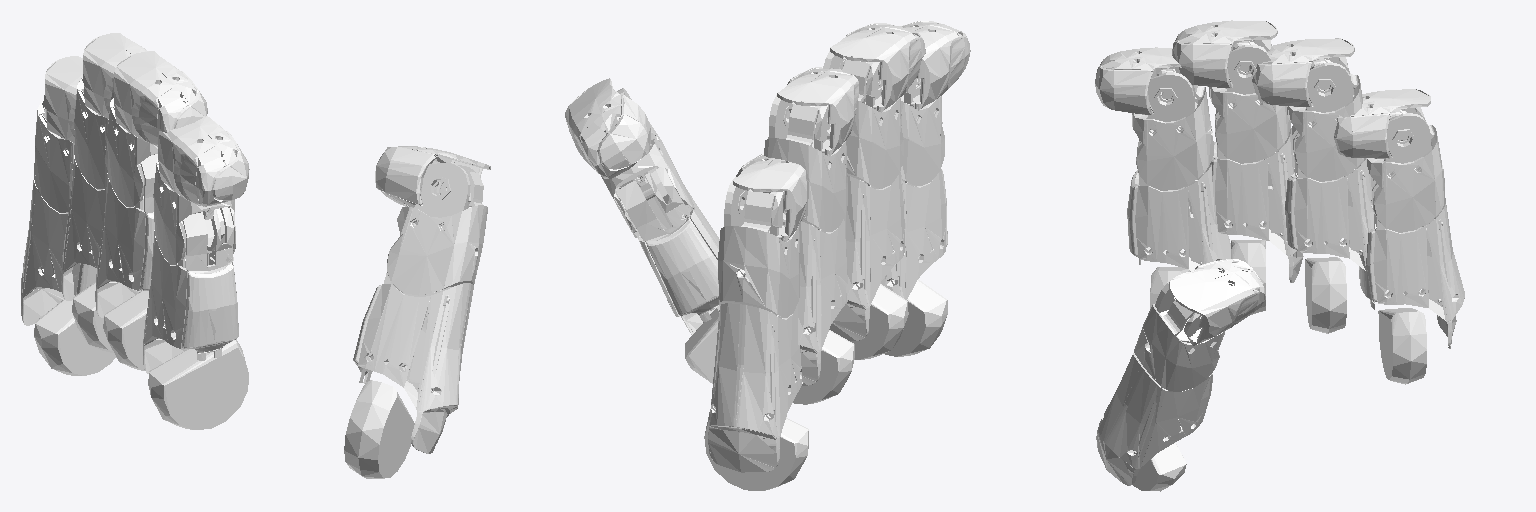
URDF robot description (hithand):
<?xml version="1.0" encoding="utf-8"?>
<robot name="hithand">
  <material name="white">
    <color rgba="1.0 1.0 1.0 1.0"/>
  </material>

  <link name="world"/>
  <joint name="fixed" type="fixed">
    <parent link="world"/>
    <child link="base_link_hithand"/>
    <origin rpy="0 0 0" xyz="0 0 0"/>
  </joint>
  <link name="base_link_hithand">
    <inertial>
      <origin rpy="0 0 0" xyz="0.0 0.0 0.0"/>
      <mass value="1.1485"/>
      <inertia ixx="2.2458e-3" ixy="-2.7421e-4" ixz="1.6e-5" iyy="2.2203e-3" iyz="-6.37e-5" izz="1.9003e-3"/>
    </inertial>
    <visual>
      <origin rpy="-1.57 0 0" xyz="0 0 0"/>
      <geometry>
        <mesh filename="./meshes/visual/palm/hit-hand-2-palm-left.obj"/>
      </geometry>
      <material name="white"/>
    </visual>
    <collision>
      <origin rpy="-1.57 0 0" xyz="0 0 0"/>
      <geometry>
        <mesh filename="./meshes/collision/palm/hit-hand-2-palm-left.stl"/>
      </geometry>
      <disable>true</disable>
    </collision>
  </link>
  <joint name="hithand_palm_joint" type="fixed">
    <parent link="base_link_hithand"/>
    <child link="palm_link_hithand"/>
    <origin rpy="-0.15 -1.3 0" xyz="0.02 0 0.06"/>
  </joint>
  <link name="palm_link_hithand"/>
  <joint name="Right_Thumb_0" type="revolute">
    <origin rpy="0.225810 -1.083656 0.411355" xyz="0.06217593 -0.044372912 0.078734808"/>
    <parent link="base_link_hithand"/>
    <child link="Right_Thumb_Basecover"/>
    <axis xyz="0 0 1"/>
    <limit effort="15" lower="-0.261799" upper="0.261799" velocity="3.14"/>
    <dynamics damping="0.5" friction="0"/>
  </joint>
  <link name="Right_Thumb_Basecover">
    <inertial>
      <origin rpy="0 0 0" xyz="0.02749 0 0"/>
      <mass value="0.0176"/>
      <inertia ixx="1.3450e-6" ixy="0.0" ixz="-1.8183e-7" iyy="1.9874e-6" iyz="0.0" izz="1.0419e-6"/>
    </inertial>
    <visual>
      <origin rpy="0 0 0" xyz="0 0 0"/>
      <geometry>
        <mesh filename="./meshes/visual/finger/hit-hand-2-finger-basecover.dae"/>
      </geometry>
      <material name="white"/>
    </visual>
    <collision>
      <origin rpy="0 0 0" xyz="0 0 0"/>
      <geometry name="hithand_Thumb_base_cover">
        <cylinder length="0.001" radius="0.001"/>
      </geometry>
    </collision>
  </link>
  <joint name="Right_Thumb_1" type="revolute">
    <origin rpy="1.5708 0 0" xyz="0 0 0 "/>
    <parent link="Right_Thumb_Basecover"/>
    <child link="Right_Thumb_Phaprox"/>
    <axis xyz="0 0 1"/>
    <limit effort="1.15" lower="0.0" upper="1.48353" velocity="3.14"/>
    <!-- Effort limit based on max fingertip force of 10N. Finger tip is approx 11.5cm away from this joint.-->
    <dynamics damping="0.5" friction="0"/>
  </joint>
  <link name="Right_Thumb_Phaprox">
    <inertial>
      <origin rpy="0 0 0" xyz="0.03076 0.00297 0"/>
      <mass value="0.0232"/>
      <inertia ixx="2.5326e-6" ixy="-9.2551e-7" ixz="-4.0954e-8" iyy="6.9625e-6" iyz="-9.38e-9" izz="7.9108e-6"/>
    </inertial>
    <visual>
      <origin rpy="0 0 0" xyz="0 0 0"/>
      <geometry>
        <mesh filename="./meshes/visual/finger/hit-hand-2-finger-phaprox-rot.dae"/>
      </geometry>
      <material name="white"/>
    </visual>
    <collision>
      <origin rpy="0 0 0" xyz="0 0 0"/>
      <geometry>
        <mesh filename="./meshes/collision/finger/hit-hand-2-finger-phaprox.stl"/>
      </geometry>
    </collision>
  </link>
  <joint name="Right_Thumb_2" type="revolute">
    <origin rpy="0 0 0" xyz="0.055 0 0"/>
    <parent link="Right_Thumb_Phaprox"/>
    <child link="Right_Thumb_Phamed"/>
    <axis xyz="0 0 1"/>
    <limit effort="0.6" lower="0.0" upper="1.13446" velocity="3.14"/>
    <dynamics damping="0.5" friction="0"/>
  </joint>
  <link name="Right_Thumb_Phamed">
    <inertial>
      <origin rpy="0 0 0" xyz="0.0097 -0.00036 0"/>
      <mass value="0.0158"/>
      <inertia ixx="1.1852e-6" ixy="-2.8845e-8" ixz="-6.1323e-9" iyy="2.4460e-6" iyz="2.4541e-9" izz="2.6537e-6"/>
    </inertial>
    <visual>
      <origin rpy="0 0 0" xyz="0 0 0"/>
      <geometry>
        <mesh filename="./meshes/visual/finger/hit-hand-2-finger-phamed-rot.dae"/>
      </geometry>
      <material name="white"/>
    </visual>
    <collision>
      <origin rpy="0 0 0" xyz="0 0 0"/>
      <geometry>
        <mesh filename="./meshes/collision/finger/hit-hand-2-finger-phamed.stl"/>
      </geometry>
    </collision>
  </link>
  <joint name="Right_Thumb_3" type="revolute">
    <origin rpy="0 0 -1.570796" xyz="0.025 0 0"/>
    <parent link="Right_Thumb_Phamed"/>
    <child link="Right_Thumb_Phadist"/>
    <axis xyz="0 0 1"/>
    <limit effort="0.35" lower="0.0" upper="1.13446" velocity="3.14"/>
    <!-- Effort limit based on max fingertip force of 10N. Finger tip is approx 3.5cm away from this joint.-->
    <dynamics damping="0.5" friction="0"/>
  </joint>
  <link name="Right_Thumb_Phadist">
    <inertial>
      <origin rpy="0 0 0" xyz="0.00072 0.00717 0.0"/>
      <mass value="0.0137"/>
      <inertia ixx="1.5519e-6" ixy="-2.037e-9" ixz="0.0" iyy="8.2972e-7" iyz="3.77e-9" izz="1.5788e-6"/>
    </inertial>
    <visual>
      <origin rpy="0 0 0" xyz="0 0 0"/>
      <geometry>
        <mesh filename="./meshes/visual/finger/hit-hand-2-finger-phadist-rot.dae"/>
      </geometry>
      <material name="white"/>
    </visual>
    <collision>
      <origin rpy="0 0 0" xyz="0 0 0"/>
      <geometry>
        <mesh filename="./meshes/collision/finger/hit-hand-2-finger-phadist.stl"/>
      </geometry>
    </collision>
  </link>
  <joint name="Right_Index_0" type="revolute">
    <!-- joint origin in parent link frame -->
    <origin rpy="3.054326 -1.570796 0.000000" xyz="-0.002529881 -0.03680013 0.107783545"/>
    <parent link="base_link_hithand"/>
    <child link="Right_Index_Basecover"/>
    <axis xyz="0 0 1"/>
    <limit effort="15" lower="-0.261799" upper="0.261799" velocity="3.14"/>
    <dynamics damping="0.5" friction="0"/>
  </joint>
  <link name="Right_Index_Basecover">
    <inertial>
      <origin rpy="0 0 0" xyz="0.02749 0 0"/>
      <mass value="0.0176"/>
      <inertia ixx="1.3450e-6" ixy="0.0" ixz="-1.8183e-7" iyy="1.9874e-6" iyz="0.0" izz="1.0419e-6"/>
    </inertial>
    <visual>
      <origin rpy="0 0 0" xyz="0 0 0"/>
      <geometry>
        <mesh filename="./meshes/visual/finger/hit-hand-2-finger-basecover.dae"/>
      </geometry>
      <material name="white"/>
    </visual>
    <collision>
      <origin rpy="0 0 0" xyz="0 0 0"/>
      <geometry name="hithand_Index_base_cover">
        <cylinder length="0.001" radius="0.001"/>
      </geometry>
    </collision>
  </link>
  <joint name="Right_Index_1" type="revolute">
    <origin rpy="1.5708 0 0" xyz="0 0 0 "/>
    <parent link="Right_Index_Basecover"/>
    <child link="Right_Index_Phaprox"/>
    <axis xyz="0 0 1"/>
    <limit effort="1.15" lower="0.0" upper="1.48353" velocity="3.14"/>
    <!-- Effort limit based on max fingertip force of 10N. Finger tip is approx 11.5cm away from this joint.-->
    <dynamics damping="0.5" friction="0"/>
  </joint>
  <link name="Right_Index_Phaprox">
    <inertial>
      <origin rpy="0 0 0" xyz="0.03076 0.00297 0"/>
      <mass value="0.0232"/>
      <inertia ixx="2.5326e-6" ixy="-9.2551e-7" ixz="-4.0954e-8" iyy="6.9625e-6" iyz="-9.38e-9" izz="7.9108e-6"/>
    </inertial>
    <visual>
      <origin rpy="0 0 0" xyz="0 0 0"/>
      <geometry>
        <mesh filename="./meshes/visual/finger/hit-hand-2-finger-phaprox-rot.dae"/>
      </geometry>
      <material name="white"/>
    </visual>
    <collision>
      <origin rpy="0 0 0" xyz="0 0 0"/>
      <geometry>
        <mesh filename="./meshes/collision/finger/hit-hand-2-finger-phaprox.stl"/>
      </geometry>
    </collision>
  </link>
  <joint name="Right_Index_2" type="revolute">
    <origin rpy="0 0 0" xyz="0.055 0 0"/>
    <parent link="Right_Index_Phaprox"/>
    <child link="Right_Index_Phamed"/>
    <axis xyz="0 0 1"/>
    <limit effort="0.6" lower="0.0" upper="1.13446" velocity="3.14"/>
    <!-- Effort limit based on max fingertip force of 10N. Finger tip is approx 6cm away from this joint.-->
    <dynamics damping="0.5" friction="0"/>
  </joint>
  <link name="Right_Index_Phamed">
    <inertial>
      <origin rpy="0 0 0" xyz="0.0097 -0.00036 0"/>
      <mass value="0.0158"/>
      <inertia ixx="1.1852e-6" ixy="-2.8845e-8" ixz="-6.1323e-9" iyy="2.4460e-6" iyz="2.4541e-9" izz="2.6537e-6"/>
    </inertial>
    <visual>
      <origin rpy="0 0 0" xyz="0 0 0"/>
      <geometry>
        <mesh filename="./meshes/visual/finger/hit-hand-2-finger-phamed-rot.dae"/>
      </geometry>
      <material name="white"/>
    </visual>
    <collision>
      <origin rpy="0 0 0" xyz="0 0 0"/>
      <geometry>
        <mesh filename="./meshes/collision/finger/hit-hand-2-finger-phamed.stl"/>
      </geometry>
    </collision>
  </link>
  <joint name="Right_Index_3" type="revolute">
    <origin rpy="0 0 -1.570796" xyz="0.025 0 0"/>
    <parent link="Right_Index_Phamed"/>
    <child link="Right_Index_Phadist"/>
    <axis xyz="0 0 1"/>
    <limit effort="0.35" lower="0.0" upper="1.13446" velocity="3.14"/>
    <!-- Effort limit based on max fingertip force of 10N. Finger tip is approx 3.5cm away from this joint.-->
    <dynamics damping="0.5" friction="0"/>
  </joint>
  <link name="Right_Index_Phadist">
    <inertial>
      <origin rpy="0 0 0" xyz="0.00072 0.00717 0.0"/>
      <mass value="0.0137"/>
      <inertia ixx="1.5519e-6" ixy="-2.037e-9" ixz="0.0" iyy="8.2972e-7" iyz="3.77e-9" izz="1.5788e-6"/>
    </inertial>
    <visual>
      <origin rpy="0 0 0" xyz="0 0 0"/>
      <geometry>
        <mesh filename="./meshes/visual/finger/hit-hand-2-finger-phadist-rot.dae"/>
      </geometry>
      <material name="white"/>
    </visual>
    <collision>
      <origin rpy="0 0 0" xyz="0 0 0"/>
      <geometry>
        <mesh filename="./meshes/collision/finger/hit-hand-2-finger-phadist.stl"/>
      </geometry>
    </collision>
  </link>
  <joint name="Right_Middle_0" type="revolute">
    <origin rpy="-3.141593 -1.570796 0.000000" xyz="-0.0037 -0.01  0.117783545"/>
    <parent link="base_link_hithand"/>
    <child link="Right_Middle_Basecover"/>
    <axis xyz="0 0 1"/>
    <limit effort="15" lower="-0.261799" upper="0.261799" velocity="3.14"/>
    <dynamics damping="0.5" friction="0"/>
  </joint>
  <link name="Right_Middle_Basecover">
    <inertial>
      <origin rpy="0 0 0" xyz="0.02749 0 0"/>
      <mass value="0.0176"/>
      <inertia ixx="1.3450e-6" ixy="0.0" ixz="-1.8183e-7" iyy="1.9874e-6" iyz="0.0" izz="1.0419e-6"/>
    </inertial>
    <visual>
      <origin rpy="0 0 0" xyz="0 0 0"/>
      <geometry>
        <mesh filename="./meshes/visual/finger/hit-hand-2-finger-basecover.dae"/>
      </geometry>
      <material name="white"/>
    </visual>
    <collision>
      <origin rpy="0 0 0" xyz="0 0 0"/>
      <geometry name="hithand_Middle_base_cover">
        <cylinder length="0.001" radius="0.001"/>
      </geometry>
    </collision>
  </link>
  <joint name="Right_Middle_1" type="revolute">
    <origin rpy="1.5708 0 0" xyz="0 0 0 "/>
    <parent link="Right_Middle_Basecover"/>
    <child link="Right_Middle_Phaprox"/>
    <axis xyz="0 0 1"/>
    <limit effort="1.15" lower="0.0" upper="1.48353" velocity="3.14"/>
    <!-- Effort limit based on max fingertip force of 10N. Finger tip is approx 11.5cm away from this joint.-->
    <dynamics damping="0.5" friction="0"/>
  </joint>
  <link name="Right_Middle_Phaprox">
    <inertial>
      <origin rpy="0 0 0" xyz="0.03076 0.00297 0"/>
      <mass value="0.0232"/>
      <inertia ixx="2.5326e-6" ixy="-9.2551e-7" ixz="-4.0954e-8" iyy="6.9625e-6" iyz="-9.38e-9" izz="7.9108e-6"/>
    </inertial>
    <visual>
      <origin rpy="0 0 0" xyz="0 0 0"/>
      <geometry>
        <mesh filename="./meshes/visual/finger/hit-hand-2-finger-phaprox-rot.dae"/>
      </geometry>
      <material name="white"/>
    </visual>
    <collision>
      <origin rpy="0 0 0" xyz="0 0 0"/>
      <geometry>
        <mesh filename="./meshes/collision/finger/hit-hand-2-finger-phaprox.stl"/>
      </geometry>
    </collision>
  </link>
  <joint name="Right_Middle_2" type="revolute">
    <origin rpy="0 0 0" xyz="0.055 0 0"/>
    <parent link="Right_Middle_Phaprox"/>
    <child link="Right_Middle_Phamed"/>
    <axis xyz="0 0 1"/>
    <limit effort="0.6" lower="0.0" upper="1.13446" velocity="3.14"/>
    <dynamics damping="0.5" friction="0"/>
  </joint>
  <link name="Right_Middle_Phamed">
    <inertial>
      <origin rpy="0 0 0" xyz="0.0097 -0.00036 0"/>
      <mass value="0.0158"/>
      <inertia ixx="1.1852e-6" ixy="-2.8845e-8" ixz="-6.1323e-9" iyy="2.4460e-6" iyz="2.4541e-9" izz="2.6537e-6"/>
    </inertial>
    <visual>
      <origin rpy="0 0 0" xyz="0 0 0"/>
      <geometry>
        <mesh filename="./meshes/visual/finger/hit-hand-2-finger-phamed-rot.dae"/>
      </geometry>
      <material name="white"/>
    </visual>
    <collision>
      <origin rpy="0 0 0" xyz="0 0 0"/>
      <geometry>
        <mesh filename="./meshes/collision/finger/hit-hand-2-finger-phamed.stl"/>
      </geometry>
    </collision>
  </link>
  <joint name="Right_Middle_3" type="revolute">
    <origin rpy="0 0 -1.570796" xyz="0.025 0 0"/>
    <parent link="Right_Middle_Phamed"/>
    <child link="Right_Middle_Phadist"/>
    <axis xyz="0 0 1"/>
    <limit effort="0.35" lower="0.0" upper="1.13446" velocity="3.14"/>
    <!-- Effort limit based on max fingertip force of 10N. Finger tip is approx 3.5cm away from this joint.-->
    <dynamics damping="0.5" friction="0"/>
  </joint>
  <link name="Right_Middle_Phadist">
    <inertial>
      <origin rpy="0 0 0" xyz="0.00072 0.00717 0.0"/>
      <mass value="0.0137"/>
      <inertia ixx="1.5519e-6" ixy="-2.037e-9" ixz="0.0" iyy="8.2972e-7" iyz="3.77e-9" izz="1.5788e-6"/>
    </inertial>
    <visual>
      <origin rpy="0 0 0" xyz="0 0 0"/>
      <geometry>
        <mesh filename="./meshes/visual/finger/hit-hand-2-finger-phadist-rot.dae"/>
      </geometry>
      <material name="white"/>
    </visual>
    <collision>
      <origin rpy="0 0 0" xyz="0 0 0"/>
      <geometry>
        <mesh filename="./meshes/collision/finger/hit-hand-2-finger-phadist.stl"/>
      </geometry>
    </collision>
  </link>
  <joint name="Right_Ring_0" type="revolute">
    <!-- joint origin in parent link frame -->
    <origin rpy="-3.054326 -1.570796 0.000000" xyz="0 0.01680013 0.11258354"/>
    <parent link="base_link_hithand"/>
    <child link="Right_Ring_Basecover"/>
    <axis xyz="0 0 1"/>
    <limit effort="15" lower="-0.261799" upper="0.261799" velocity="3.14"/>
    <dynamics damping="0.5" friction="0"/>
  </joint>
  <link name="Right_Ring_Basecover">
    <inertial>
      <origin rpy="0 0 0" xyz="0.02749 0 0"/>
      <mass value="0.0176"/>
      <inertia ixx="1.3450e-6" ixy="0.0" ixz="-1.8183e-7" iyy="1.9874e-6" iyz="0.0" izz="1.0419e-6"/>
    </inertial>
    <visual>
      <origin rpy="0 0 0" xyz="0 0 0"/>
      <geometry>
        <mesh filename="./meshes/visual/finger/hit-hand-2-finger-basecover.dae"/>
      </geometry>
      <material name="white"/>
    </visual>
    <collision>
      <origin rpy="0 0 0" xyz="0 0 0"/>
      <geometry name="hithand_Ring_base_cover">
        <cylinder length="0.001" radius="0.001"/>
      </geometry>
    </collision>
  </link>
  <joint name="Right_Ring_1" type="revolute">
    <origin rpy="1.5708 0 0" xyz="0 0 0 "/>
    <parent link="Right_Ring_Basecover"/>
    <child link="Right_Ring_Phaprox"/>
    <axis xyz="0 0 1"/>
    <limit effort="1.15" lower="0.0" upper="1.48353" velocity="3.14"/>
    <!-- Effort limit based on max fingertip force of 10N. Finger tip is approx 11.5cm away from this joint.-->
    <dynamics damping="0.5" friction="0"/>
  </joint>
  <link name="Right_Ring_Phaprox">
    <inertial>
      <origin rpy="0 0 0" xyz="0.03076 0.00297 0"/>
      <mass value="0.0232"/>
      <inertia ixx="2.5326e-6" ixy="-9.2551e-7" ixz="-4.0954e-8" iyy="6.9625e-6" iyz="-9.38e-9" izz="7.9108e-6"/>
    </inertial>
    <visual>
      <origin rpy="0 0 0" xyz="0 0 0"/>
      <geometry>
        <mesh filename="./meshes/visual/finger/hit-hand-2-finger-phaprox-rot.dae"/>
      </geometry>
      <material name="white"/>
    </visual>
    <collision>
      <origin rpy="0 0 0" xyz="0 0 0"/>
      <geometry>
        <mesh filename="./meshes/collision/finger/hit-hand-2-finger-phaprox.stl"/>
      </geometry>
    </collision>
  </link>
  <joint name="Right_Ring_2" type="revolute">
    <origin rpy="0 0 0" xyz="0.055 0 0"/>
    <parent link="Right_Ring_Phaprox"/>
    <child link="Right_Ring_Phamed"/>
    <axis xyz="0 0 1"/>
    <limit effort="0.6" lower="0.0" upper="1.13446" velocity="3.14"/>
    <!-- Effort limit based on max fingertip force of 10N. Finger tip is approx 6cm away from this joint.-->
    <dynamics damping="0.5" friction="0"/>
  </joint>
  <link name="Right_Ring_Phamed">
    <inertial>
      <origin rpy="0 0 0" xyz="0.0097 -0.00036 0"/>
      <mass value="0.0158"/>
      <inertia ixx="1.1852e-6" ixy="-2.8845e-8" ixz="-6.1323e-9" iyy="2.4460e-6" iyz="2.4541e-9" izz="2.6537e-6"/>
    </inertial>
    <visual>
      <origin rpy="0 0 0" xyz="0 0 0"/>
      <geometry>
        <mesh filename="./meshes/visual/finger/hit-hand-2-finger-phamed-rot.dae"/>
      </geometry>
      <material name="white"/>
    </visual>
    <collision>
      <origin rpy="0 0 0" xyz="0 0 0"/>
      <geometry>
        <mesh filename="./meshes/collision/finger/hit-hand-2-finger-phamed.stl"/>
      </geometry>
    </collision>
  </link>
  <joint name="Right_Ring_3" type="revolute">
    <origin rpy="0 0 -1.570796" xyz="0.025 0 0"/>
    <parent link="Right_Ring_Phamed"/>
    <child link="Right_Ring_Phadist"/>
    <axis xyz="0 0 1"/>
    <limit effort="0.35" lower="0.0" upper="1.13446" velocity="3.14"/>
    <!-- Effort limit based on max fingertip force of 10N. Finger tip is approx 3.5cm away from this joint.-->
    <dynamics damping="0.5" friction="0"/>
  </joint>
  <link name="Right_Ring_Phadist">
    <inertial>
      <origin rpy="0 0 0" xyz="0.00072 0.00717 0.0"/>
      <mass value="0.0137"/>
      <inertia ixx="1.5519e-6" ixy="-2.037e-9" ixz="0.0" iyy="8.2972e-7" iyz="3.77e-9" izz="1.5788e-6"/>
    </inertial>
    <visual>
      <origin rpy="0 0 0" xyz="0 0 0"/>
      <geometry>
        <mesh filename="./meshes/visual/finger/hit-hand-2-finger-phadist-rot.dae"/>
      </geometry>
      <material name="white"/>
    </visual>
    <collision>
      <origin rpy="0 0 0" xyz="0 0 0"/>
      <geometry>
        <mesh filename="./meshes/collision/finger/hit-hand-2-finger-phadist.stl"/>
      </geometry>
    </collision>
  </link>
  <joint name="Right_Little_0" type="revolute">
    <origin rpy="-2.967060 -1.570796 0.000000" xyz="0.000971571 0.0433963 0.093583545"/>
    <parent link="base_link_hithand"/>
    <child link="Right_Little_Basecover"/>
    <axis xyz="0 0 1"/>
    <limit effort="15" lower="-0.261799" upper="0.261799" velocity="3.14"/>
    <dynamics damping="0.5" friction="0"/>
  </joint>
  <link name="Right_Little_Basecover">
    <inertial>
      <origin rpy="0 0 0" xyz="0.02749 0 0"/>
      <mass value="0.0176"/>
      <inertia ixx="1.3450e-6" ixy="0.0" ixz="-1.8183e-7" iyy="1.9874e-6" iyz="0.0" izz="1.0419e-6"/>
    </inertial>
    <visual>
      <origin rpy="0 0 0" xyz="0 0 0"/>
      <geometry>
        <mesh filename="./meshes/visual/finger/hit-hand-2-finger-basecover.dae"/>
      </geometry>
      <material name="white"/>
    </visual>
    <collision>
      <origin rpy="0 0 0" xyz="0 0 0"/>
      <geometry name="hithand_Little_base_cover">
        <cylinder length="0.001" radius="0.001"/>
      </geometry>
    </collision>
  </link>
  <joint name="Right_Little_1" type="revolute">
    <origin rpy="1.5708 0 0" xyz="0 0 0 "/>
    <parent link="Right_Little_Basecover"/>
    <child link="Right_Little_Phaprox"/>
    <axis xyz="0 0 1"/>
    <limit effort="1.15" lower="0.0" upper="1.48353" velocity="3.14"/>
    <!-- Effort limit based on max fingertip force of 10N. Finger tip is approx 11.5cm away from this joint.-->
    <dynamics damping="0.5" friction="0"/>
  </joint>
  <link name="Right_Little_Phaprox">
    <inertial>
      <origin rpy="0 0 0" xyz="0.03076 0.00297 0"/>
      <mass value="0.0232"/>
      <inertia ixx="2.5326e-6" ixy="-9.2551e-7" ixz="-4.0954e-8" iyy="6.9625e-6" iyz="-9.38e-9" izz="7.9108e-6"/>
    </inertial>
    <visual>
      <origin rpy="0 0 0" xyz="0 0 0"/>
      <geometry>
        <mesh filename="./meshes/visual/finger/hit-hand-2-finger-phaprox-rot.dae"/>
      </geometry>
      <material name="white"/>
    </visual>
    <collision>
      <origin rpy="0 0 0" xyz="0 0 0"/>
      <geometry>
        <mesh filename="./meshes/collision/finger/hit-hand-2-finger-phaprox.stl"/>
      </geometry>
    </collision>
  </link>
  <joint name="Right_Little_2" type="revolute">
    <origin rpy="0 0 0" xyz="0.055 0 0"/>
    <parent link="Right_Little_Phaprox"/>
    <child link="Right_Little_Phamed"/>
    <axis xyz="0 0 1"/>
    <limit effort="0.6" lower="0.0" upper="1.13446" velocity="3.14"/>
    <!-- Effort limit based on max fingertip force of 10N. Finger tip is approx 6cm away from this joint.-->
    <dynamics damping="0.5" friction="0"/>
  </joint>
  <link name="Right_Little_Phamed">
    <inertial>
      <origin rpy="0 0 0" xyz="0.0097 -0.00036 0"/>
      <mass value="0.0158"/>
      <inertia ixx="1.1852e-6" ixy="-2.8845e-8" ixz="-6.1323e-9" iyy="2.4460e-6" iyz="2.4541e-9" izz="2.6537e-6"/>
    </inertial>
    <visual>
      <origin rpy="0 0 0" xyz="0 0 0"/>
      <geometry>
        <mesh filename="./meshes/visual/finger/hit-hand-2-finger-phamed-rot.dae"/>
      </geometry>
      <material name="white"/>
    </visual>
    <collision>
      <origin rpy="0 0 0" xyz="0 0 0"/>
      <geometry>
        <mesh filename="./meshes/collision/finger/hit-hand-2-finger-phamed.stl"/>
      </geometry>
    </collision>
  </link>
  <joint name="Right_Little_3" type="revolute">
    <origin rpy="0 0 -1.570796" xyz="0.025 0 0"/>
    <parent link="Right_Little_Phamed"/>
    <child link="Right_Little_Phadist"/>
    <axis xyz="0 0 1"/>
    <limit effort="0.35" lower="0.0" upper="1.13446" velocity="3.14"/>
    <!-- Effort limit based on max fingertip force of 10N. Finger tip is approx 3.5cm away from this joint.-->
    <dynamics damping="0.5" friction="0"/>
  </joint>
  <link name="Right_Little_Phadist">
    <inertial>
      <origin rpy="0 0 0" xyz="0.00072 0.00717 0.0"/>
      <mass value="0.0137"/>
      <inertia ixx="1.5519e-6" ixy="-2.037e-9" ixz="0.0" iyy="8.2972e-7" iyz="3.77e-9" izz="1.5788e-6"/>
    </inertial>
    <visual>
      <origin rpy="0 0 0" xyz="0 0 0"/>
      <geometry>
        <mesh filename="./meshes/visual/finger/hit-hand-2-finger-phadist-rot.dae"/>
      </geometry>
      <material name="white"/>
    </visual>
    <collision>
      <origin rpy="0 0 0" xyz="0 0 0"/>
      <geometry>
        <mesh filename="./meshes/collision/finger/hit-hand-2-finger-phadist.stl"/>
      </geometry>
    </collision>
  </link>
</robot>

--- Facts derived from the render (not from the file) ---
The picture shows the robot from 3 angles, left to right: view 1: azimuth 30°, elevation 25°; view 2: azimuth 150°, elevation 25°; view 3: azimuth 270°, elevation 25°; orthographic projection.
Model hithand with 23 links and 22 joints (20 revolute, 2 fixed), rooted at world, posed every joint at zero.
Links seen in each view (by area): view 1: Right_Thumb_Phaprox, Right_Index_Phaprox, Right_Thumb_Phamed, Right_Index_Basecover, Right_Index_Phadist, Right_Middle_Phadist, Right_Middle_Phaprox, Right_Thumb_Basecover, Right_Little_Phaprox, Right_Ring_Phaprox, Right_Little_Basecover, Right_Thumb_Phadist (+8 smaller); view 2: Right_Little_Phaprox, Right_Thumb_Phaprox, Right_Little_Phamed, Right_Middle_Phaprox, Right_Ring_Phamed, Right_Ring_Phaprox, Right_Thumb_Phadist, Right_Middle_Phamed, Right_Index_Phaprox, Right_Middle_Phadist, Right_Ring_Phadist, Right_Index_Phamed (+8 smaller); view 3: Right_Little_Phaprox, Right_Thumb_Phaprox, Right_Index_Phaprox, Right_Index_Phamed, Right_Ring_Phaprox, Right_Little_Phamed, Right_Middle_Phaprox, Right_Middle_Phamed, Right_Ring_Phamed, Right_Thumb_Phamed, Right_Thumb_Phadist, Right_Middle_Phadist (+8 smaller).
Boxes of the visible links, box(x1,y1,x2,y2) form: Right_Thumb_Phaprox: box(353, 273, 473, 453); Right_Index_Phaprox: box(143, 207, 238, 373); Right_Thumb_Phamed: box(387, 162, 487, 295); Right_Index_Basecover: box(148, 339, 248, 429); Right_Index_Phadist: box(158, 116, 249, 206); Right_Middle_Phadist: box(114, 51, 207, 146); Right_Middle_Phaprox: box(95, 154, 186, 317); Right_Thumb_Basecover: box(344, 380, 414, 478); Right_Little_Phaprox: box(21, 180, 96, 325); Right_Ring_Phaprox: box(61, 155, 143, 300); Right_Little_Basecover: box(34, 299, 115, 375); Right_Thumb_Phadist: box(375, 146, 490, 207); Right_Little_Phaprox: box(708, 303, 802, 472); Right_Thumb_Phaprox: box(616, 166, 719, 334); Right_Little_Phamed: box(718, 177, 799, 317); Right_Middle_Phaprox: box(829, 171, 905, 340); Right_Ring_Phamed: box(763, 95, 847, 231); Right_Ring_Phaprox: box(792, 216, 847, 385); Right_Thumb_Phadist: box(565, 78, 650, 178); Right_Middle_Phamed: box(823, 51, 903, 188); Right_Index_Phaprox: box(881, 169, 947, 329); Right_Middle_Phadist: box(830, 23, 925, 112); Right_Ring_Phadist: box(777, 67, 865, 156); Right_Index_Phamed: box(901, 78, 944, 185); Right_Little_Phaprox: box(1359, 171, 1464, 348); Right_Thumb_Phaprox: box(1096, 353, 1212, 485); Right_Index_Phaprox: box(1127, 126, 1230, 271); Right_Index_Phamed: box(1132, 67, 1213, 190); Right_Ring_Phaprox: box(1285, 120, 1373, 270); Right_Little_Phamed: box(1366, 107, 1444, 232); Right_Middle_Phaprox: box(1210, 101, 1303, 282); Right_Middle_Phamed: box(1209, 40, 1290, 163); Right_Ring_Phamed: box(1287, 57, 1363, 181); Right_Thumb_Phamed: box(1134, 272, 1224, 391); Right_Thumb_Phadist: box(1160, 259, 1265, 345); Right_Middle_Phadist: box(1172, 20, 1277, 88).
Bounding box of the posed robot: 0.1296 × 0.1286 × 0.1457 m (x, y, z).
Meshes: 5 distinct files referenced, 20 mesh visuals loaded (4 Collada DAE); not drawn: 1 (reference not matched to a file when rendering).
